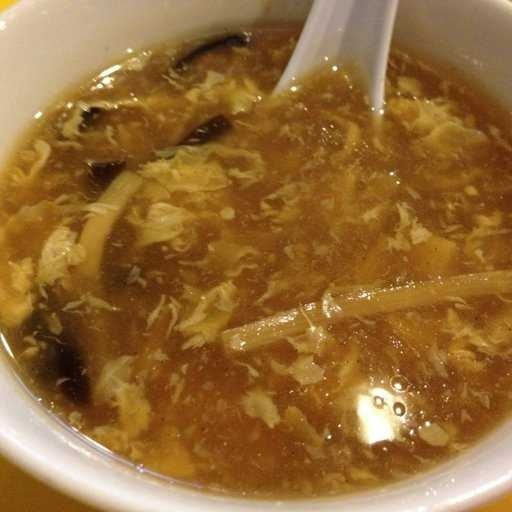soup: (8, 31, 508, 491)
